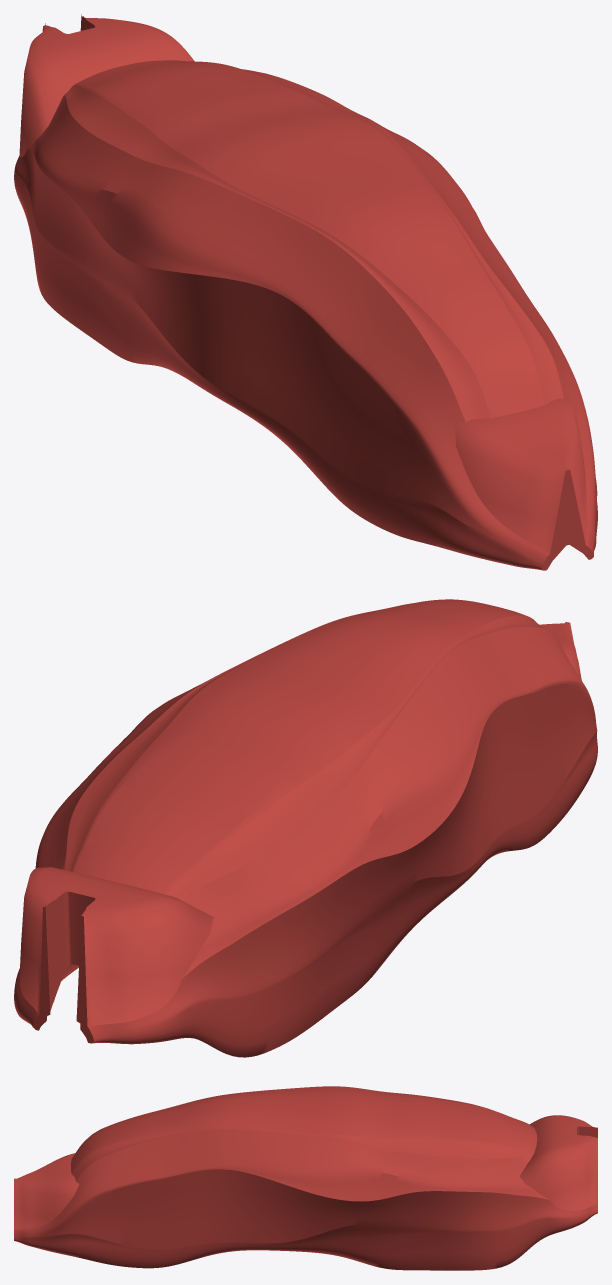
Rendered from sport.glb.
3 renders of one model, top to bottom at view 1: azimuth 30°, elevation 25°; view 2: azimuth 150°, elevation 25°; view 3: azimuth 270°, elevation 25°, orthographic. The views are drawn at different scales.
Parts seen in each view (by area): view 1: lod0; view 2: lod0; view 3: lod0.
Boxes of the visible parts, x1,y1,x2,y2 form: lod0: (14, 14, 597, 570); lod0: (14, 599, 597, 1057); lod0: (14, 1086, 597, 1270).
Size of what is drawn, in the model's own units: 0.3731 by 0.2771 by 1.07.
